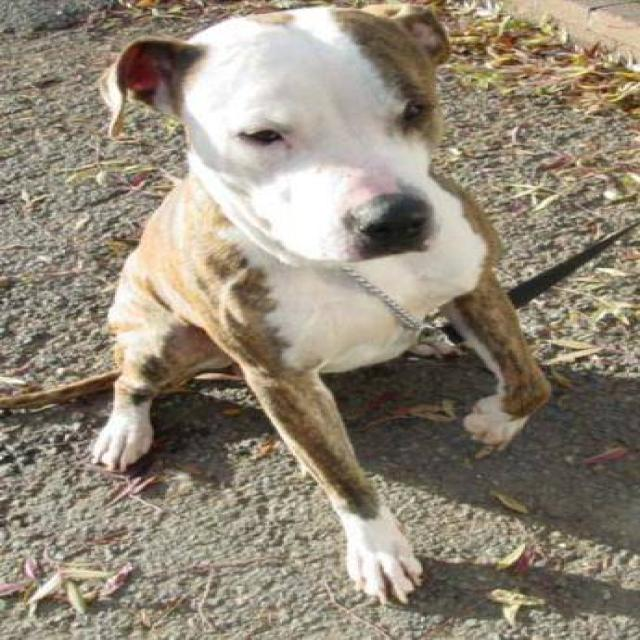dog: (0, 2, 555, 606)
